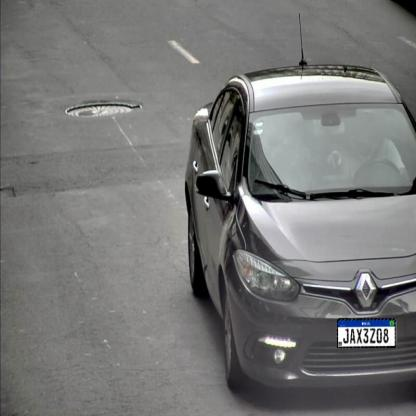PlacaM: (337, 318, 396, 348)
